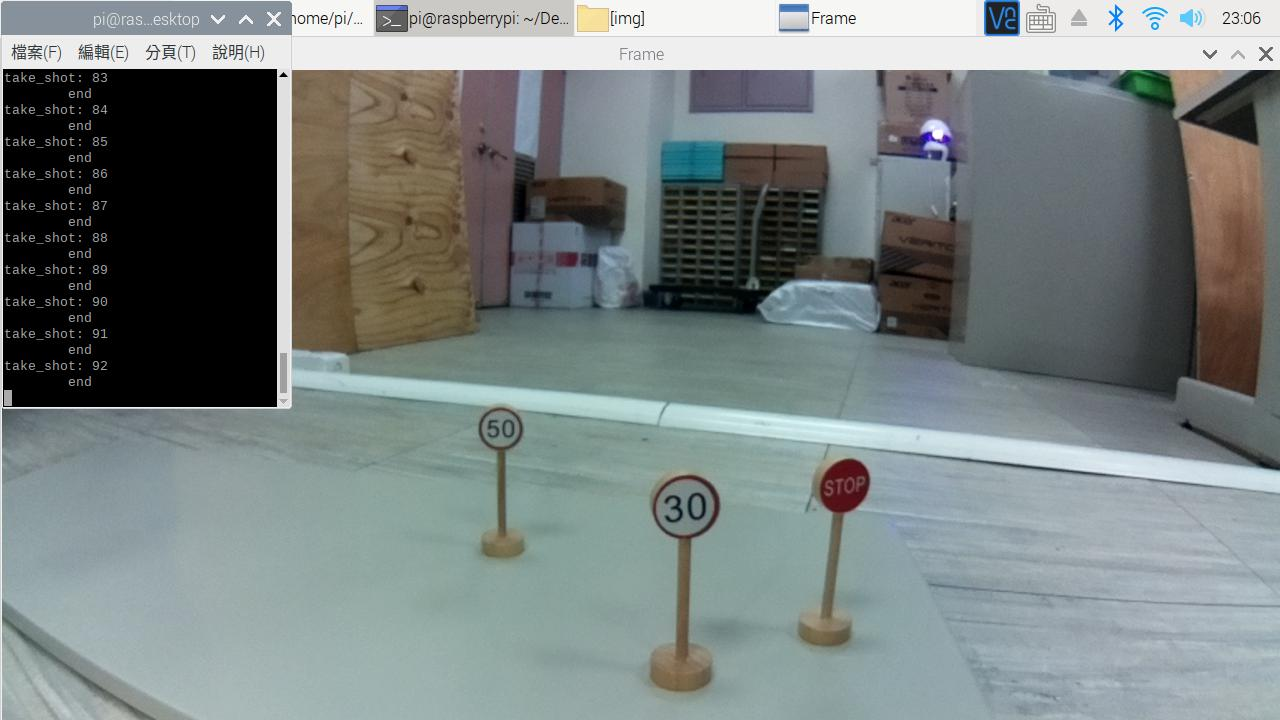Speed30: (641, 475, 742, 549)
Speed50: (472, 407, 546, 468)
Stop: (805, 457, 884, 524)
